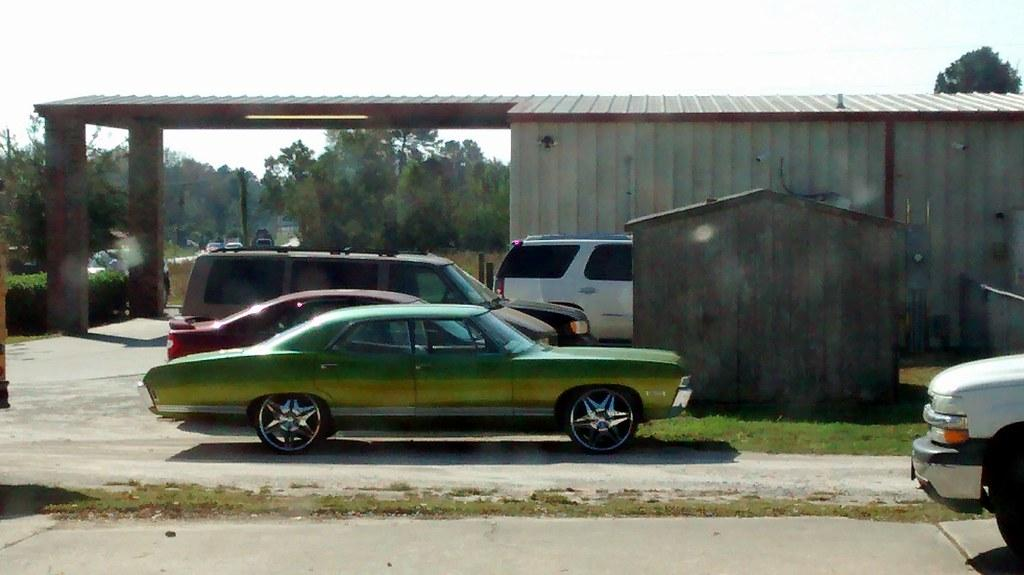car: (138, 303, 694, 456), (160, 246, 562, 354), (163, 287, 500, 370), (911, 352, 1024, 558)
